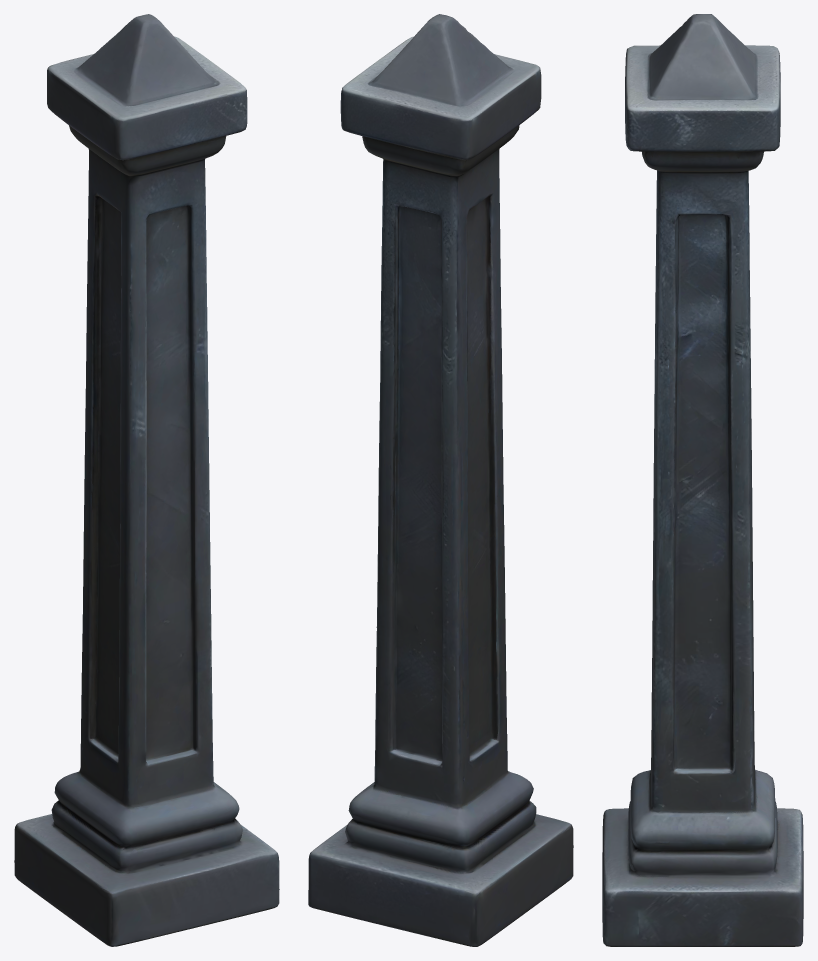
The model's file is gatepost2.fbx.
3 views of the same model, side by side, from view 1: azimuth 30°, elevation 25°; view 2: azimuth 150°, elevation 25°; view 3: azimuth 270°, elevation 25° (orthographic).
Parts seen in each view (by area): view 1: tripo_node_104206c6; view 2: tripo_node_104206c6; view 3: tripo_node_104206c6.
Part boxes in pixels (x1,y1,x2,y2): tripo_node_104206c6: [14, 14, 279, 946]; tripo_node_104206c6: [308, 14, 573, 946]; tripo_node_104206c6: [602, 14, 803, 946].
Size of the model in its own units: 0.2057 by 0.9999 by 0.2051.
1 material, 1 textured.
